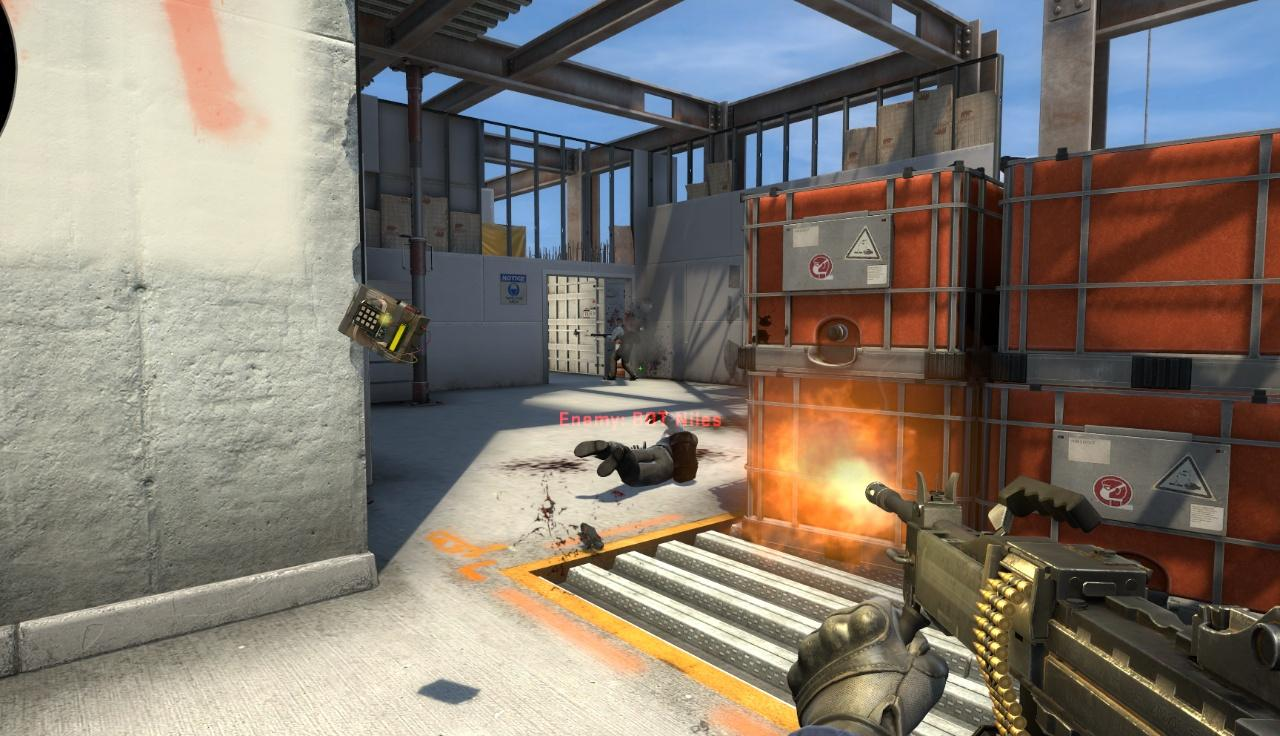rifle: (862, 469, 1280, 736)
tt: (611, 318, 635, 378)
tthead: (614, 318, 623, 327)
